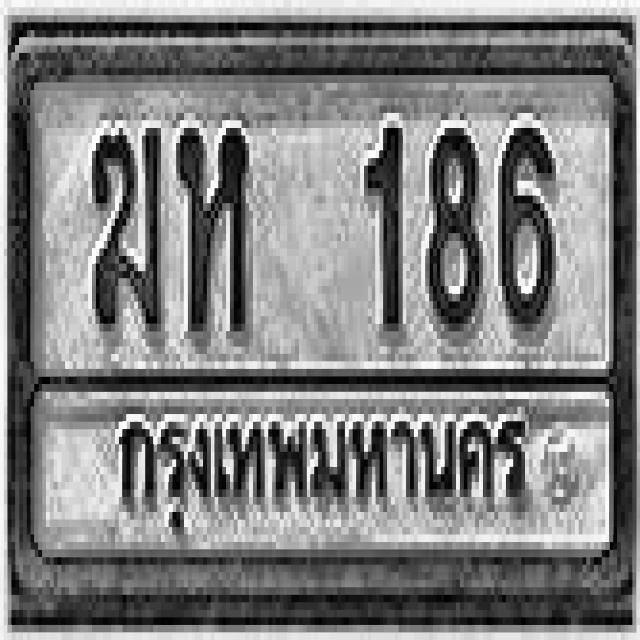license-plate: (12, 41, 629, 610)
